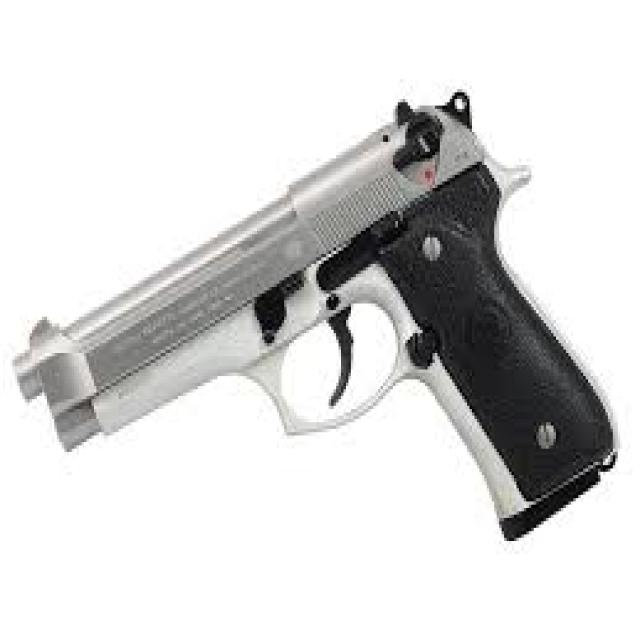pistol: (3, 85, 623, 554)
